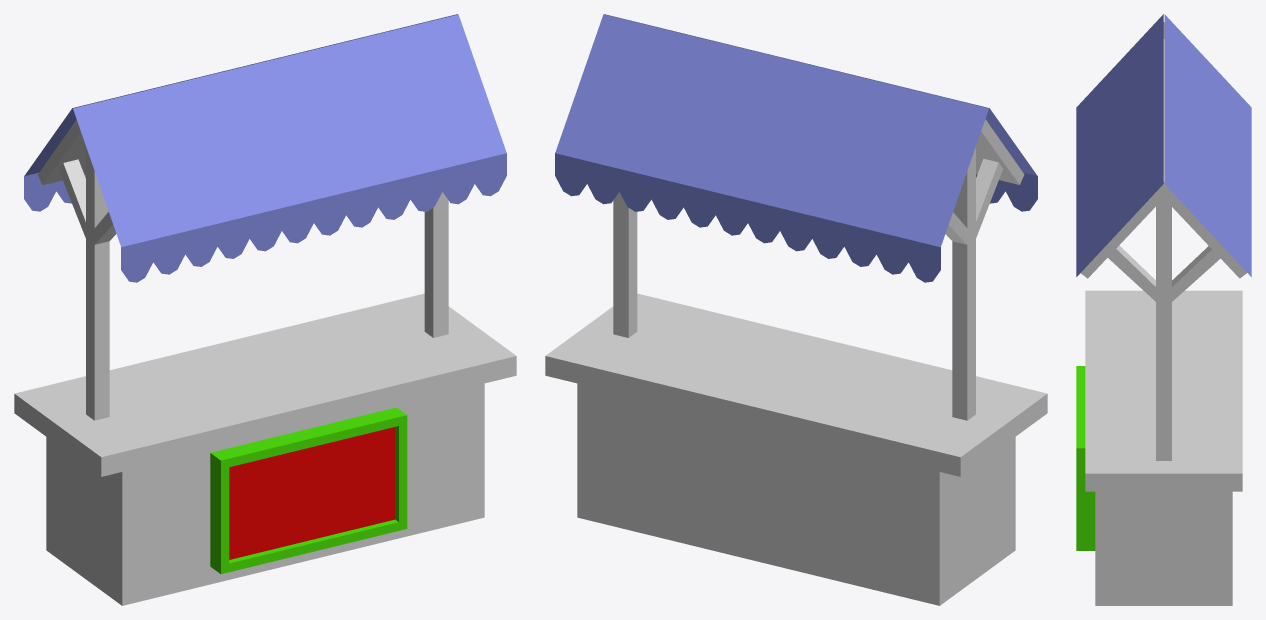
File: Paraditas.fbx
3 views of the same model, side by side, from view 1: azimuth 30°, elevation 25°; view 2: azimuth 150°, elevation 25°; view 3: azimuth 270°, elevation 25° (orthographic). The views are drawn at different scales.
Visible parts, largest first — view 1: Plane.001, Cube; view 2: Plane.001; view 3: Plane.001, Cube.
Part boxes in pixels (bbox=[...]): Plane.001: bbox=[14, 14, 516, 605]; Cube: bbox=[210, 407, 407, 574]; Plane.001: bbox=[545, 14, 1047, 605]; Plane.001: bbox=[1076, 14, 1251, 605]; Cube: bbox=[1076, 366, 1095, 550].
Size of the model in its own units: 207 by 226 by 83.96.
